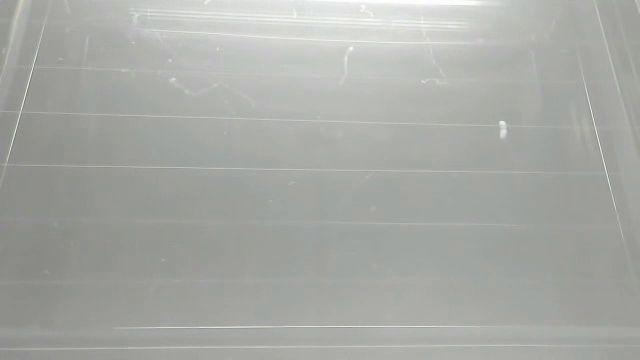alpha: (496, 117, 510, 141)
